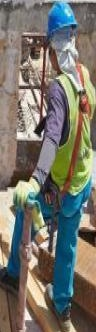boots: (0, 253, 16, 291), (0, 266, 19, 294)
gloves: (11, 178, 39, 210), (0, 152, 7, 172)
hard-hat: (0, 160, 11, 215)
ppe-suit: (0, 47, 48, 284)
